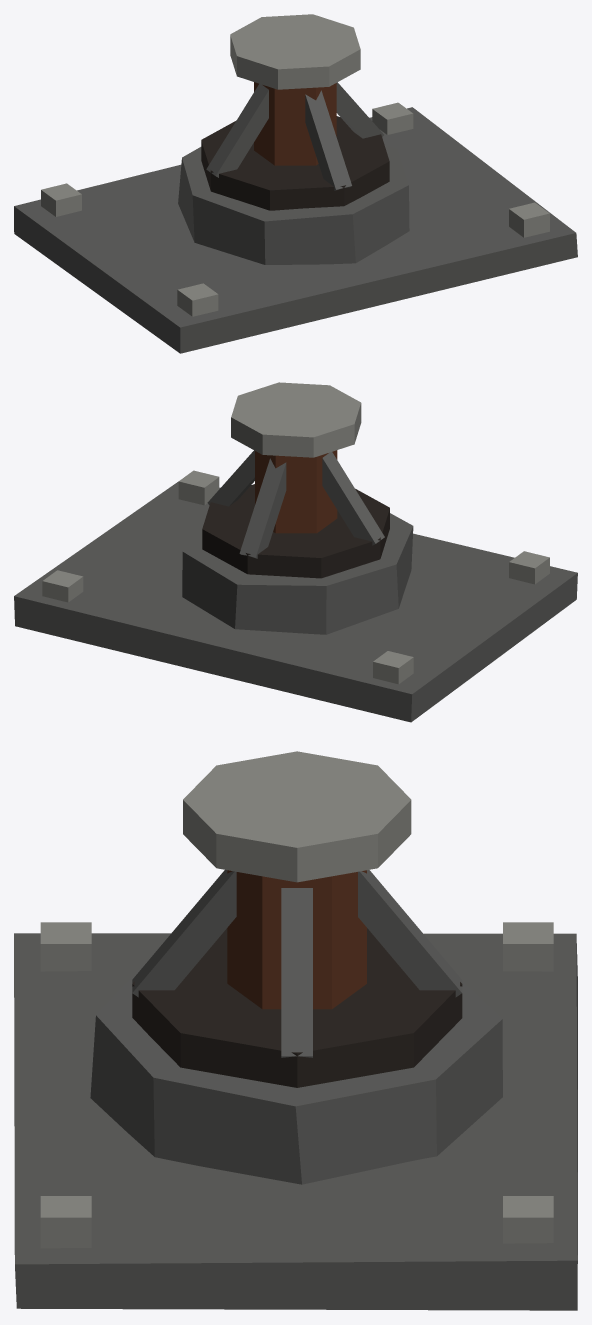
File: wmount_ring_small.glb
The picture shows the model from 3 angles, top to bottom: view 1: azimuth 30°, elevation 25°; view 2: azimuth 150°, elevation 25°; view 3: azimuth 270°, elevation 25°; orthographic projection. The views are drawn at different scales.
Visible parts, largest first — view 1: wmount_ring_small; view 2: wmount_ring_small; view 3: wmount_ring_small.
Boxes of the visible parts, x1,y1,x2,y2 form: wmount_ring_small: (14, 14, 577, 353); wmount_ring_small: (14, 382, 577, 722); wmount_ring_small: (14, 751, 577, 1310).
Bounding box in the file's own units: 0.614 × 0.3012 × 0.4442.
